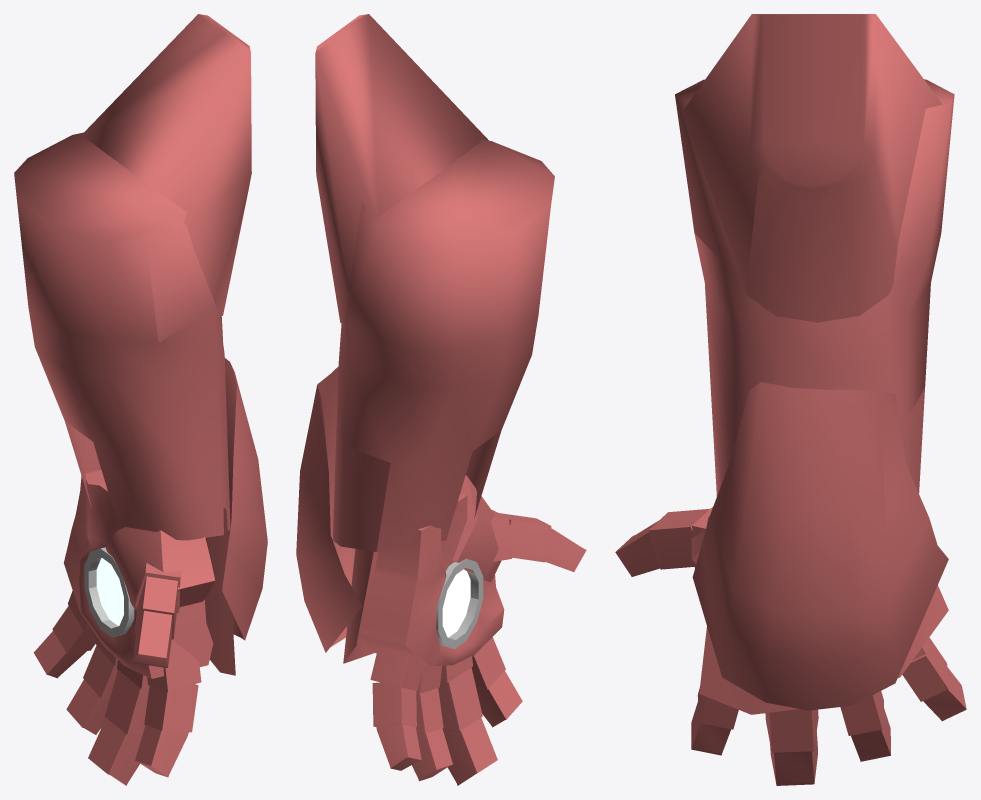
File: iron-man-right.glb
3 views of the same model, side by side, from view 1: azimuth 30°, elevation 25°; view 2: azimuth 150°, elevation 25°; view 3: azimuth 270°, elevation 25° (orthographic). The views are drawn at different scales.
Visible parts, largest first — view 1: Red; view 2: Red; view 3: Red.
Part boxes in pixels (x1=…): Red: x1=14, y1=14, x2=267, y2=785; Red: x1=296, y1=14, x2=586, y2=785; Red: x1=615, y1=14, x2=966, y2=785.
Bounding box in the file's own units: 0.4253 × 1.38 × 0.5227.
